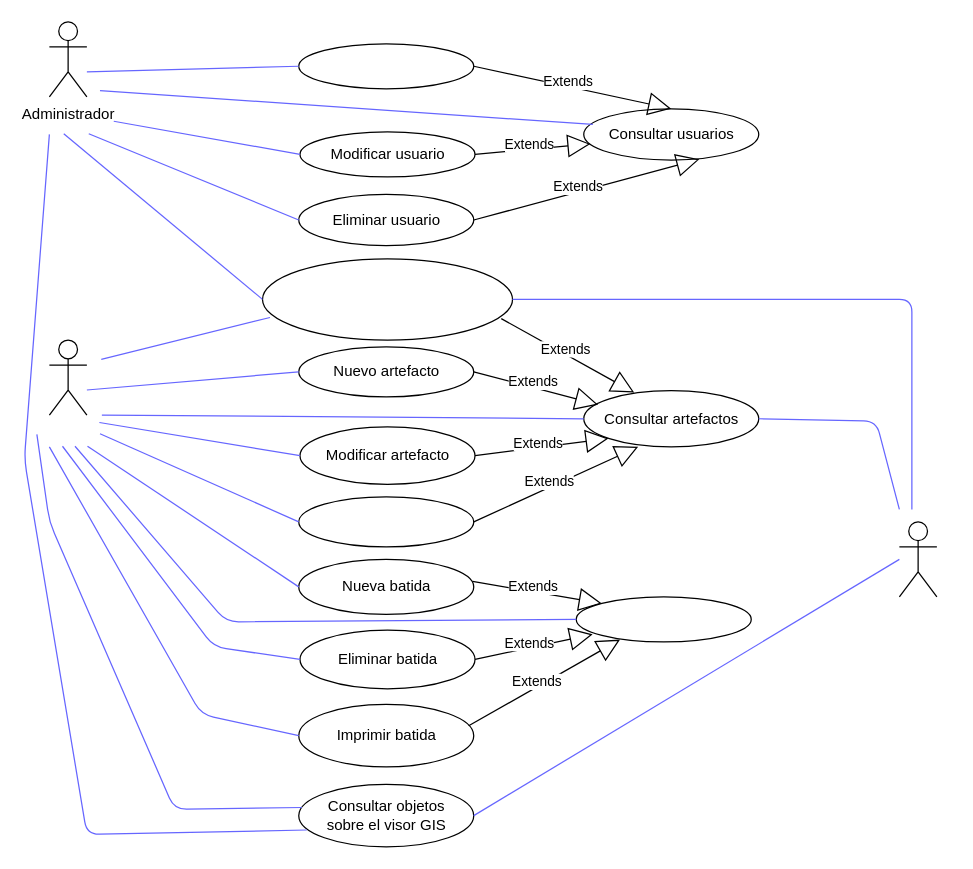
The diagram is 973 pixels wide and 869 high, and some of its shapes have lost their labels. The centre of each missing label's shape, as x and y in pixels:
"Consultar batidas" belongs at [663,619].
"Consultas" belongs at [917,559].
"Eliminar artefacto" belongs at [386,521].
"Gestor" belongs at [67,377].
"Imprimir Artefactos filtrados por varios campos: Estado, fechas, Tipo, etc" belongs at [386,299].
"Nuevo usuario" belongs at [386,65].
